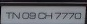character: (12, 11, 20, 20), (44, 12, 52, 20), (29, 11, 36, 20), (5, 11, 12, 19), (21, 12, 29, 19), (37, 12, 45, 19), (54, 12, 61, 20), (61, 12, 68, 20), (74, 12, 81, 19), (67, 12, 73, 20)
